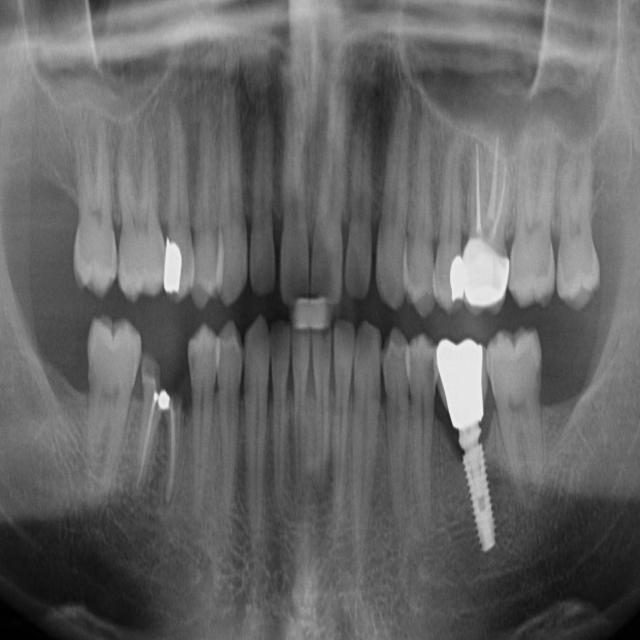dolgu: (156, 228, 192, 302)
implant: (435, 332, 507, 554)
kanal-tedavisi: (459, 125, 510, 250), (136, 390, 185, 506)
kaplama: (453, 234, 513, 310)
kirik: (143, 334, 193, 424)
